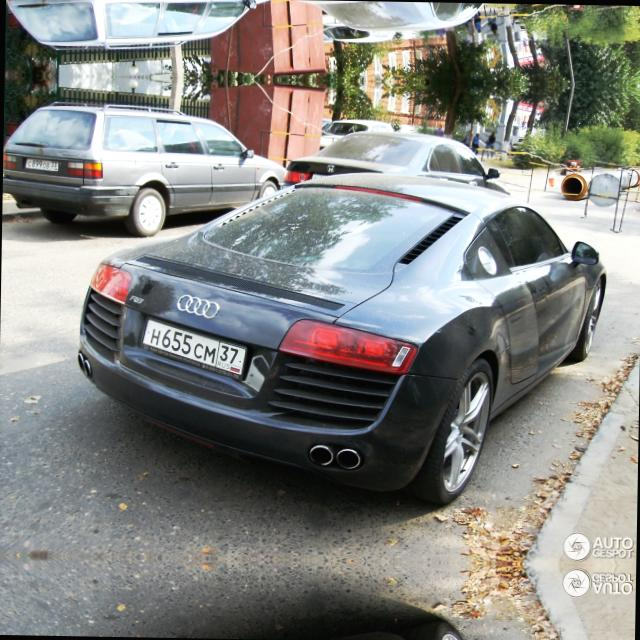citizen: (136, 308, 252, 389), (19, 151, 62, 175)
